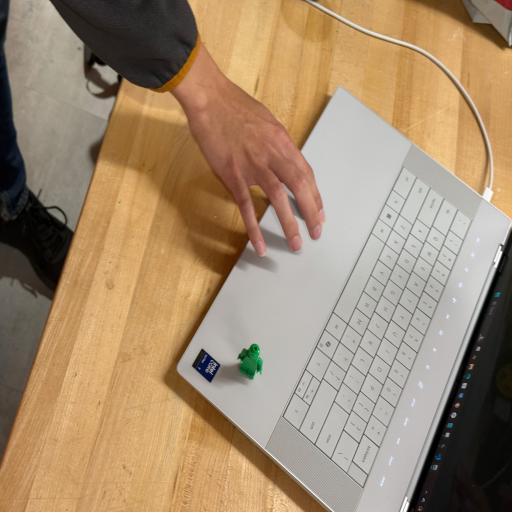Lego-Dude: (238, 344, 262, 379)
